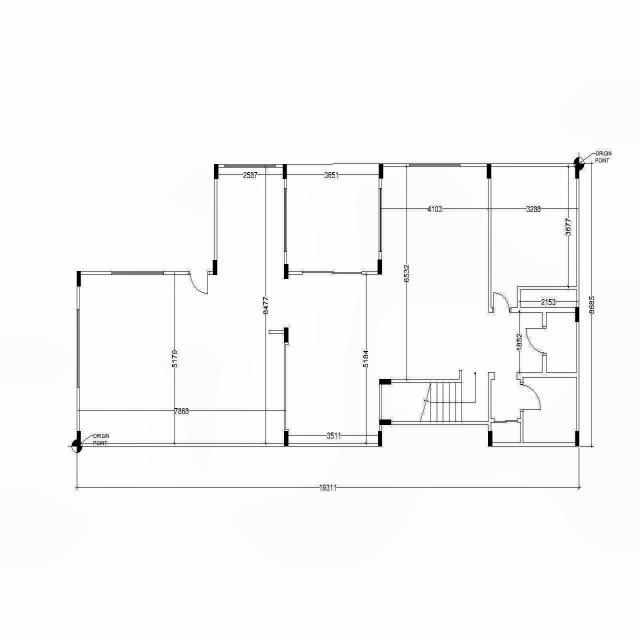Column: (486, 164, 492, 178), (378, 164, 384, 178), (379, 378, 391, 384), (488, 431, 492, 447), (378, 431, 382, 447), (77, 271, 81, 287), (77, 431, 81, 447), (575, 307, 579, 322), (575, 431, 579, 446), (283, 164, 287, 179), (214, 164, 218, 179), (284, 264, 288, 279), (284, 431, 288, 446), (213, 260, 217, 275), (576, 164, 580, 178), (378, 260, 382, 274), (284, 328, 288, 342), (379, 420, 392, 424)
Door: (525, 325, 548, 357), (519, 381, 542, 413), (188, 269, 210, 295), (492, 290, 512, 314)
Sliding Door: (301, 270, 364, 276), (493, 418, 518, 423)
Staircase: (378, 369, 496, 428)
Window: (223, 162, 277, 169), (378, 187, 383, 254), (110, 270, 165, 276), (283, 187, 288, 253), (76, 307, 80, 389), (408, 162, 461, 168)
